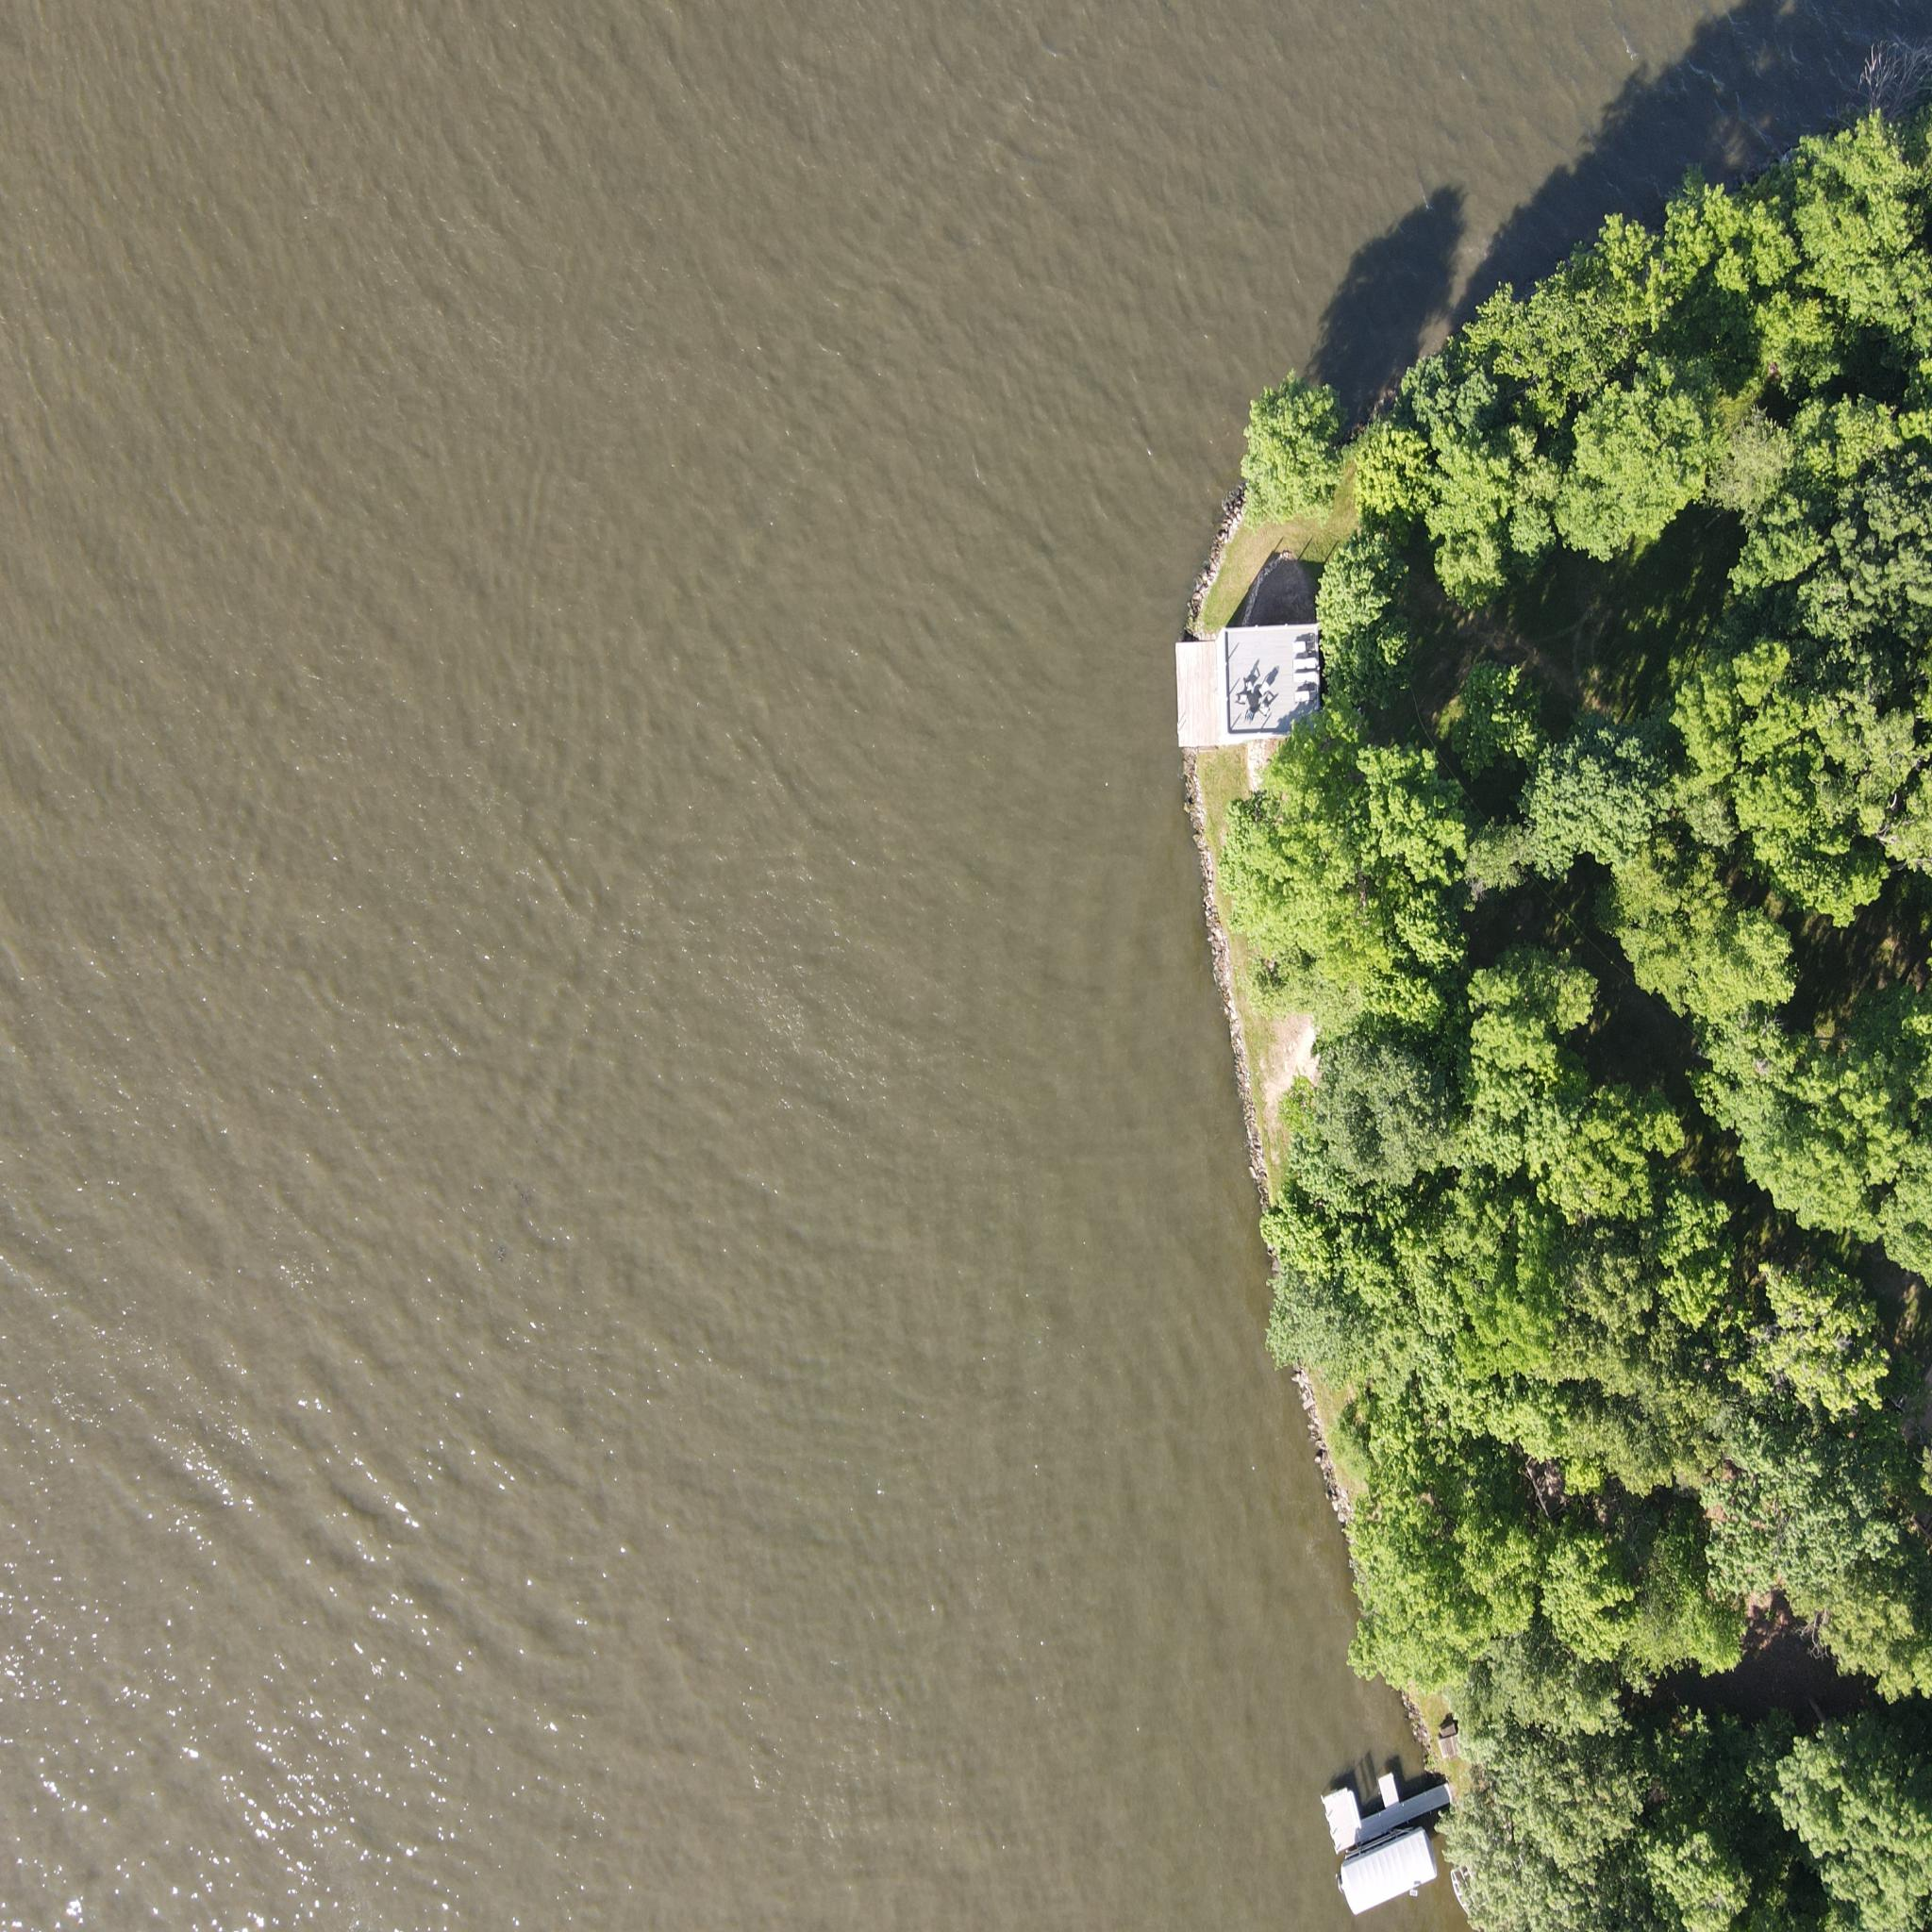boat: (1318, 1769, 1458, 1854)
dock: (1338, 1826, 1444, 1920)
